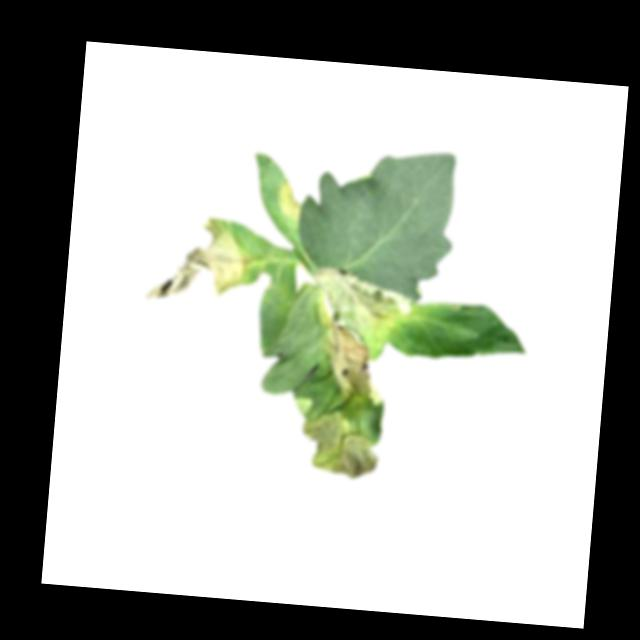Late_blight: (143, 210, 255, 311), (307, 265, 418, 361), (290, 400, 384, 482), (326, 356, 388, 405), (274, 177, 304, 221)
healthy: (293, 139, 461, 304)
